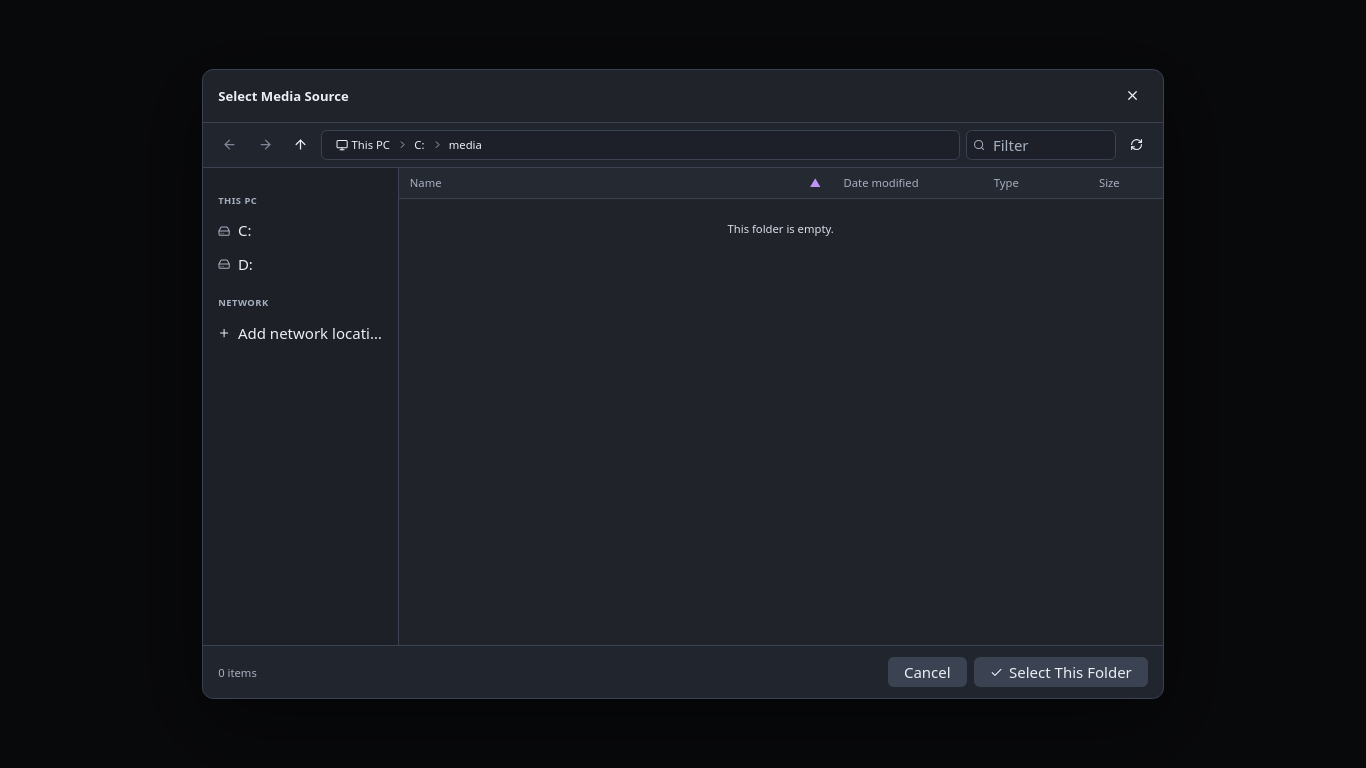
file browser navigation › navigates to another volume from the sidebar
Click the button "D:": (300, 264) [203,248,398,281]
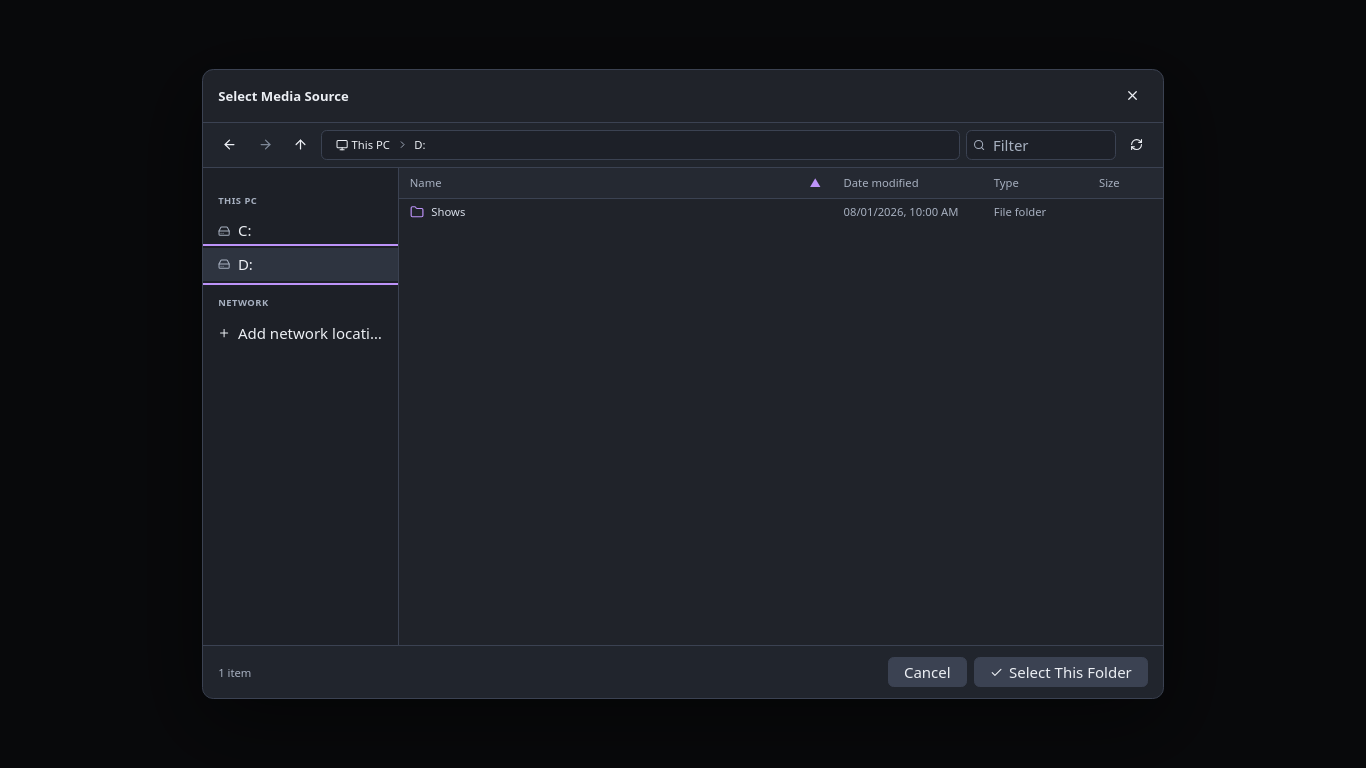
Expected: the text "Shows" is shown, [431,204,465,219]
